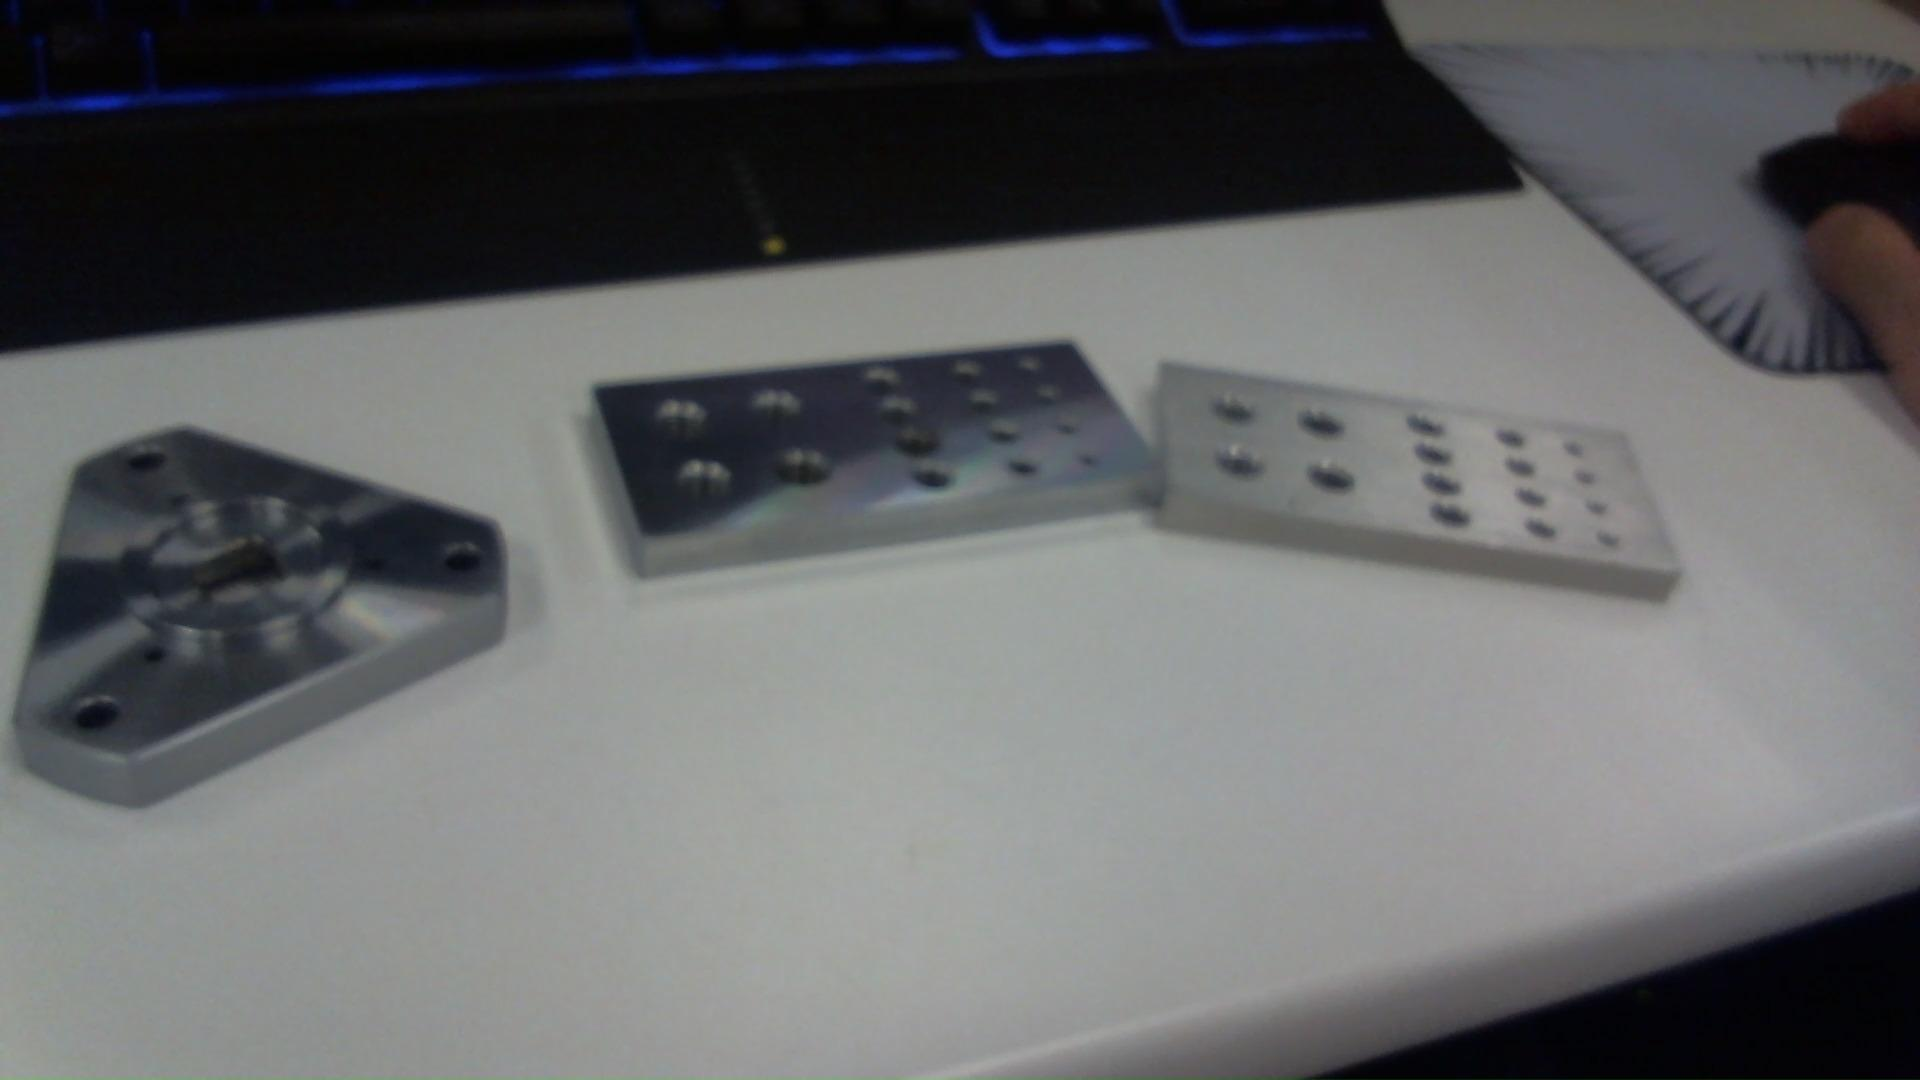hole: (647, 385, 720, 444), (674, 459, 741, 505), (749, 382, 810, 429), (67, 694, 128, 737), (1302, 459, 1361, 502), (773, 448, 833, 491), (1212, 444, 1270, 487), (1207, 382, 1259, 427), (1291, 409, 1353, 442), (894, 425, 948, 462), (1425, 497, 1474, 537), (907, 464, 960, 495), (439, 546, 488, 578), (124, 448, 177, 477), (1002, 452, 1046, 487), (877, 400, 922, 431), (1414, 435, 1455, 469), (131, 644, 174, 675), (862, 364, 906, 396), (1403, 407, 1451, 436), (949, 357, 986, 389), (1423, 471, 1462, 498), (1526, 516, 1561, 546), (1490, 427, 1531, 454), (1501, 456, 1538, 483), (1515, 487, 1556, 509), (1586, 526, 1625, 550), (360, 555, 394, 578), (985, 423, 1026, 442), (1580, 497, 1607, 520), (1563, 436, 1586, 460), (968, 394, 994, 415), (1571, 465, 1596, 487)
